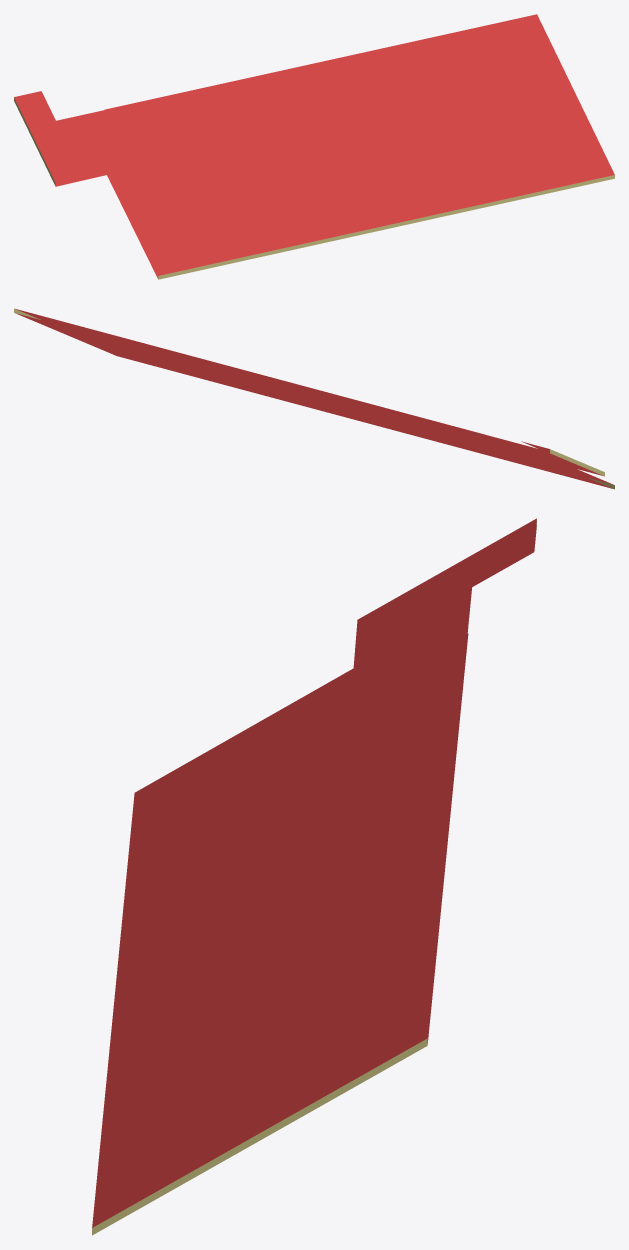
3 views of the same model, one above another, from view 1: azimuth 30°, elevation 25°; view 2: azimuth 150°, elevation 25°; view 3: azimuth 270°, elevation 25° (orthographic). The views are drawn at different scales.
Bounding box in the file's own units: 13.87 × 5.35 × 3.18.
